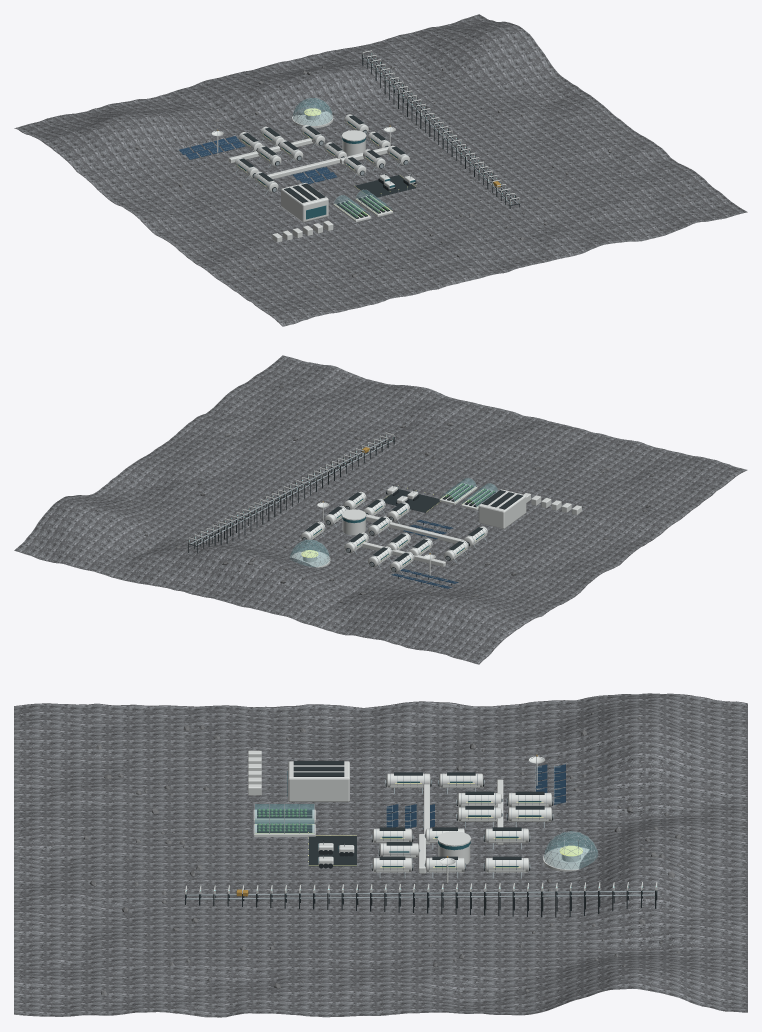
Rendered from moon-outpost-v1.glb.
3 views of the same model, one above another, from view 1: azimuth 30°, elevation 25°; view 2: azimuth 150°, elevation 25°; view 3: azimuth 270°, elevation 25° (orthographic). The views are drawn at different scales.
Parts seen in each view (by area): view 1: Moon regolith, Ceramic pressure skin, Graphite composite, Titanium structure, Transparent pressure glazing, Photovoltaic cells, Basalt; view 2: Moon regolith, Ceramic pressure skin, Graphite composite, Titanium structure, Transparent pressure glazing, Basalt, Photovoltaic cells; view 3: Moon regolith, Ceramic pressure skin, Graphite composite, Titanium structure, Transparent pressure glazing, Basalt, Photovoltaic cells, Coated blue glazing, Amber navigation lights.
Boxes of the visible parts, <box> form: Moon regolith: <box>14,14,747,326</box>; Ceramic pressure skin: <box>211,50,519,242</box>; Graphite composite: <box>204,52,520,218</box>; Titanium structure: <box>181,56,517,219</box>; Transparent pressure glazing: <box>293,98,391,218</box>; Photovoltaic cells: <box>179,136,337,183</box>; Basalt: <box>101,39,685,287</box>; Moon regolith: <box>14,355,747,664</box>; Ceramic pressure skin: <box>188,432,581,578</box>; Graphite composite: <box>188,434,522,588</box>; Titanium structure: <box>190,439,498,589</box>; Transparent pressure glazing: <box>290,478,497,566</box>; Basalt: <box>95,385,653,608</box>; Photovoltaic cells: <box>391,520,458,588</box>; Moon regolith: <box>14,693,747,1017</box>; Ceramic pressure skin: <box>185,750,657,898</box>; Graphite composite: <box>185,761,657,917</box>; Titanium structure: <box>186,756,654,899</box>; Transparent pressure glazing: <box>255,804,597,869</box>; Basalt: <box>84,713,681,995</box>; Photovoltaic cells: <box>386,764,565,828</box>; Coated blue glazing: <box>287,771,541,867</box>; Amber navigation lights: <box>255,783,582,867</box>.
Size of the model in its own units: 320 by 20.24 by 320.
Materials: 12 (1 with a texture image).
